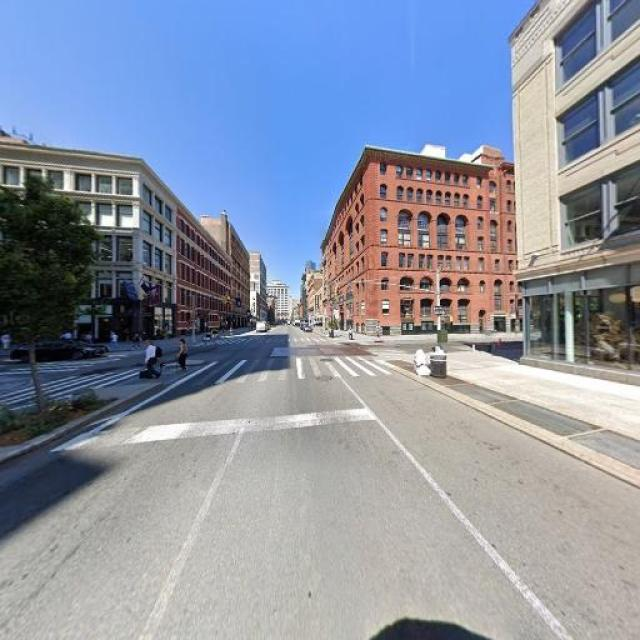Building: (1, 139, 229, 344), (522, 1, 640, 385), (322, 143, 494, 337)
